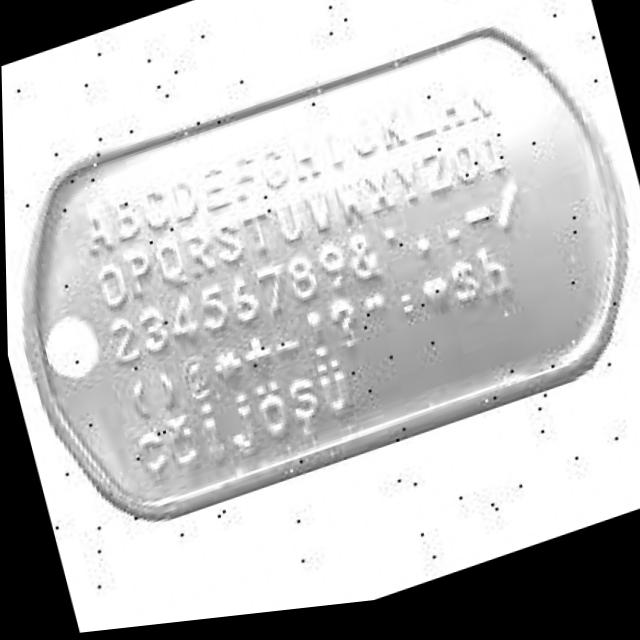ocr: (56, 69, 574, 512)
